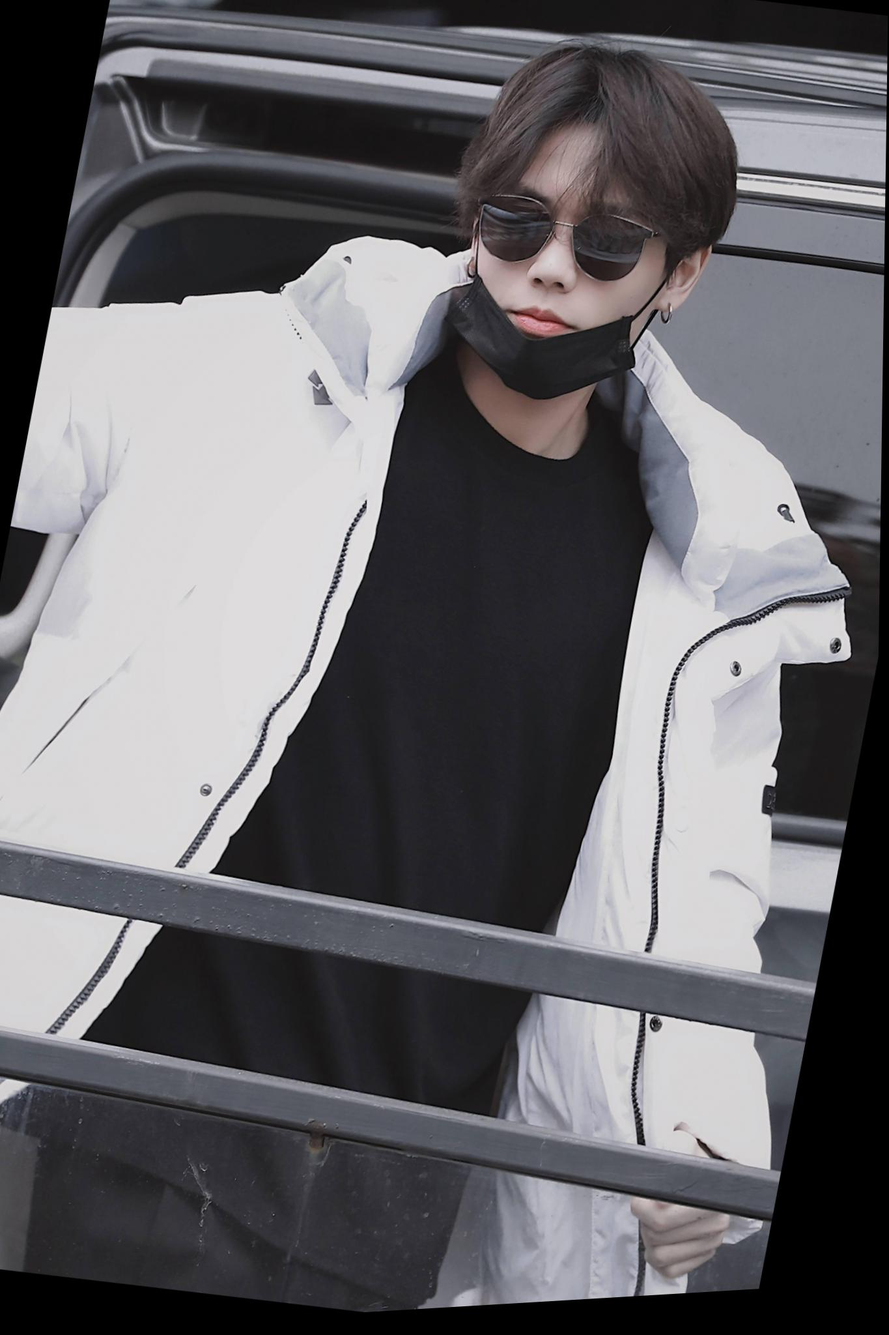WRONG: (453, 143, 675, 410)
